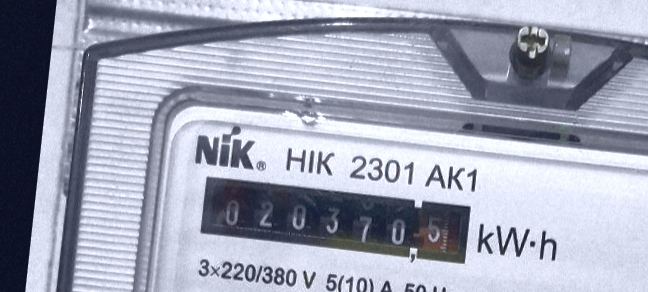0: (386, 215, 407, 247), (220, 195, 240, 226), (288, 200, 306, 230)
2: (254, 197, 275, 229)
3: (321, 203, 340, 234)
5: (422, 212, 444, 245)
7: (353, 212, 371, 244)
screen: (190, 168, 478, 273)
